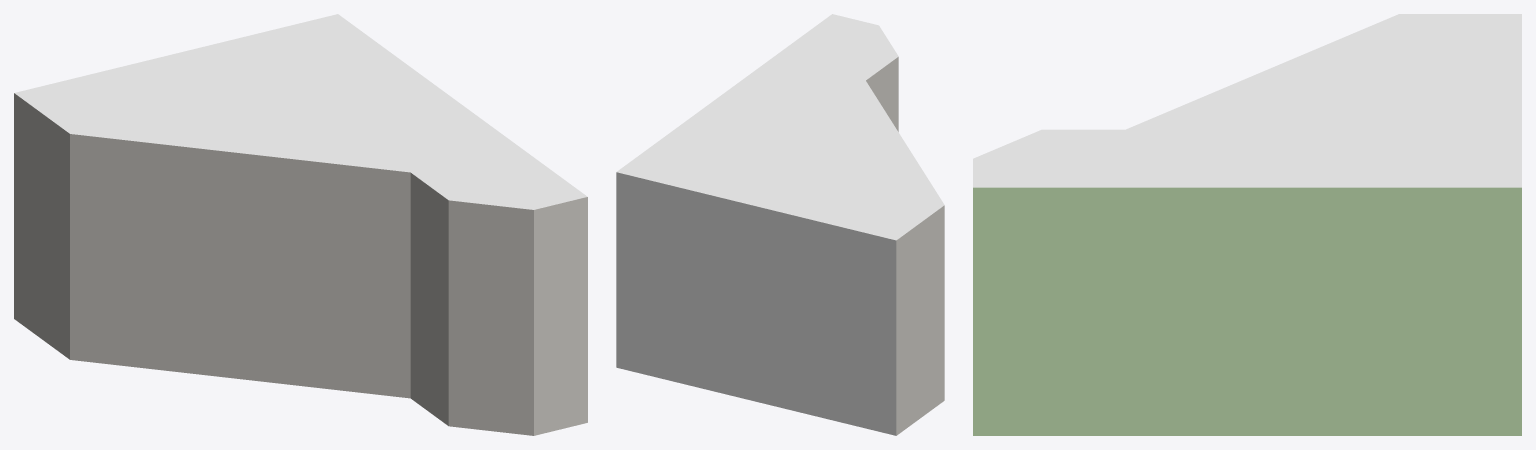
Rendered from Cave_Edge_Esse_Mid_2x3.glb.
3 views of the same model, side by side, from view 1: azimuth 30°, elevation 25°; view 2: azimuth 150°, elevation 25°; view 3: azimuth 270°, elevation 25° (orthographic). The views are drawn at different scales.
Visible parts, largest first — view 1: Cave_Edge_Esse_Mid_2x3; view 2: Cave_Edge_Esse_Mid_2x3; view 3: Cave_Edge_Esse_Mid_2x3.
Part boxes in pixels (x1=…): Cave_Edge_Esse_Mid_2x3: x1=14, y1=14, x2=587, y2=435; Cave_Edge_Esse_Mid_2x3: x1=616, y1=14, x2=944, y2=435; Cave_Edge_Esse_Mid_2x3: x1=973, y1=14, x2=1521, y2=435.
Size of the model in its own units: 150 by 100 by 200.
